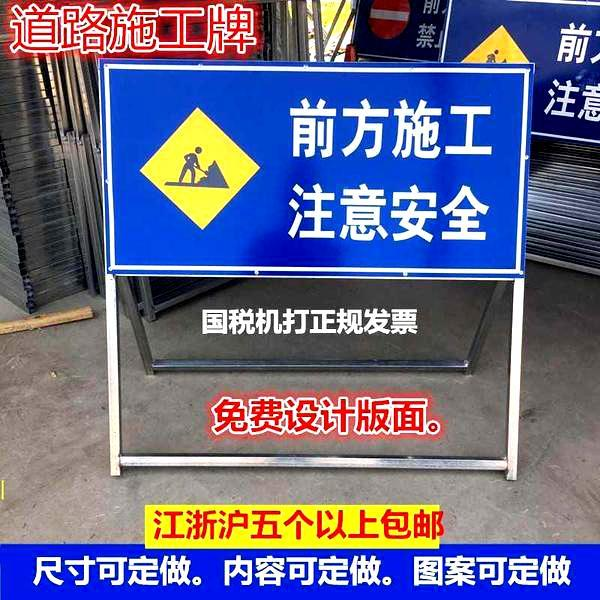sign: (101, 63, 524, 274)
